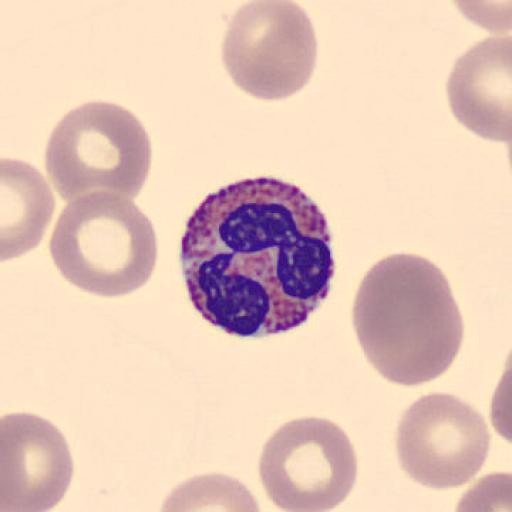RBC: (350, 250, 466, 389), (48, 188, 158, 300), (44, 98, 154, 208), (218, 1, 320, 102), (256, 413, 360, 512), (394, 390, 492, 492), (2, 410, 76, 512), (445, 36, 512, 146), (1, 156, 57, 262), (156, 469, 264, 512), (452, 469, 511, 512), (448, 0, 512, 37), (489, 366, 512, 448)
WBC: (175, 175, 340, 341)
